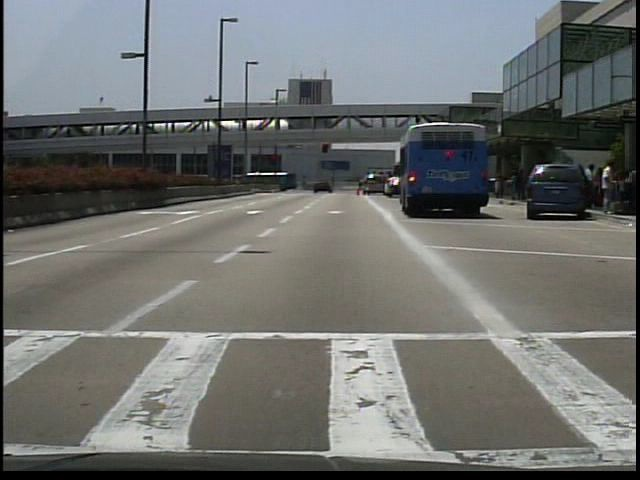person: (597, 162, 618, 217), (584, 163, 599, 210), (595, 166, 610, 213), (516, 168, 528, 203), (314, 182, 324, 197)
